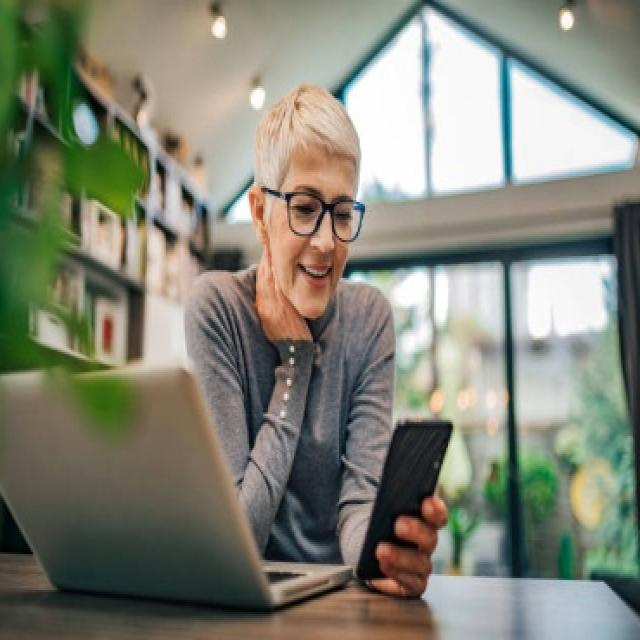adult: (200, 107, 424, 550)
